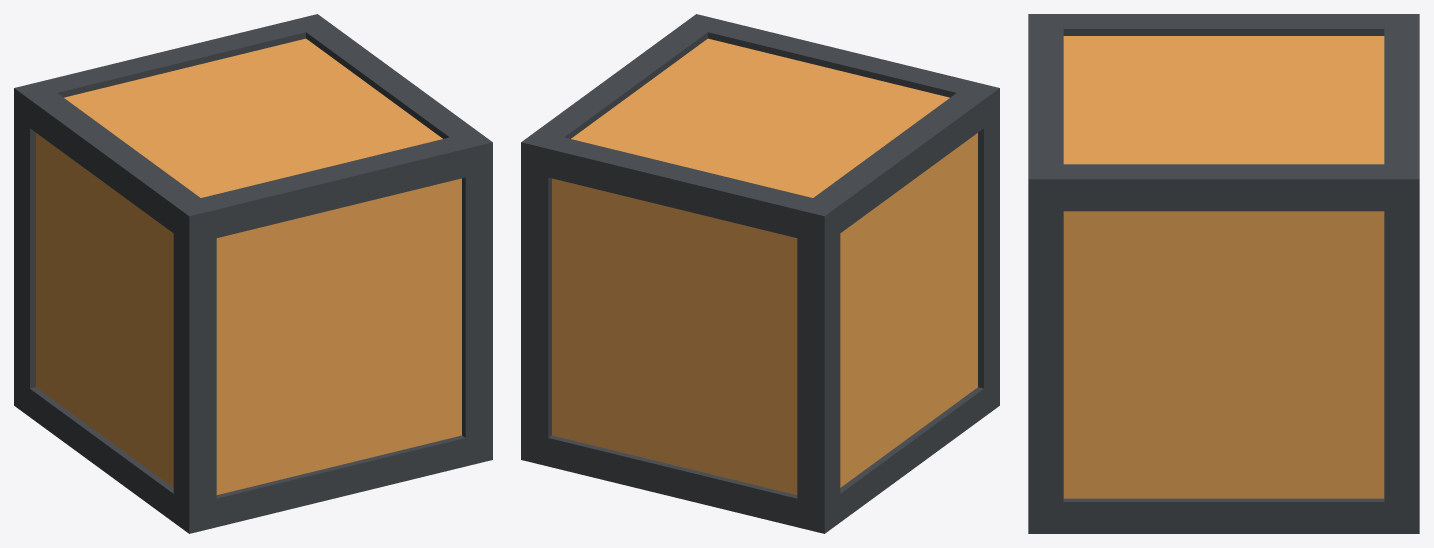
File: arena_crate.gltf
The picture shows the model from 3 angles, left to right: view 1: azimuth 30°, elevation 25°; view 2: azimuth 150°, elevation 25°; view 3: azimuth 270°, elevation 25°; orthographic projection. The views are drawn at different scales.
Visible parts, largest first — view 1: arena_crate; view 2: arena_crate; view 3: arena_crate.
Boxes of the visible parts, <box> form: arena_crate: <box>14,14,492,533</box>; arena_crate: <box>521,14,999,533</box>; arena_crate: <box>1028,14,1419,533</box>.
Size of the model in its own units: 1 by 1 by 1.
